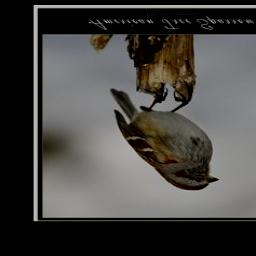Sparrow: (109, 82, 218, 192)
